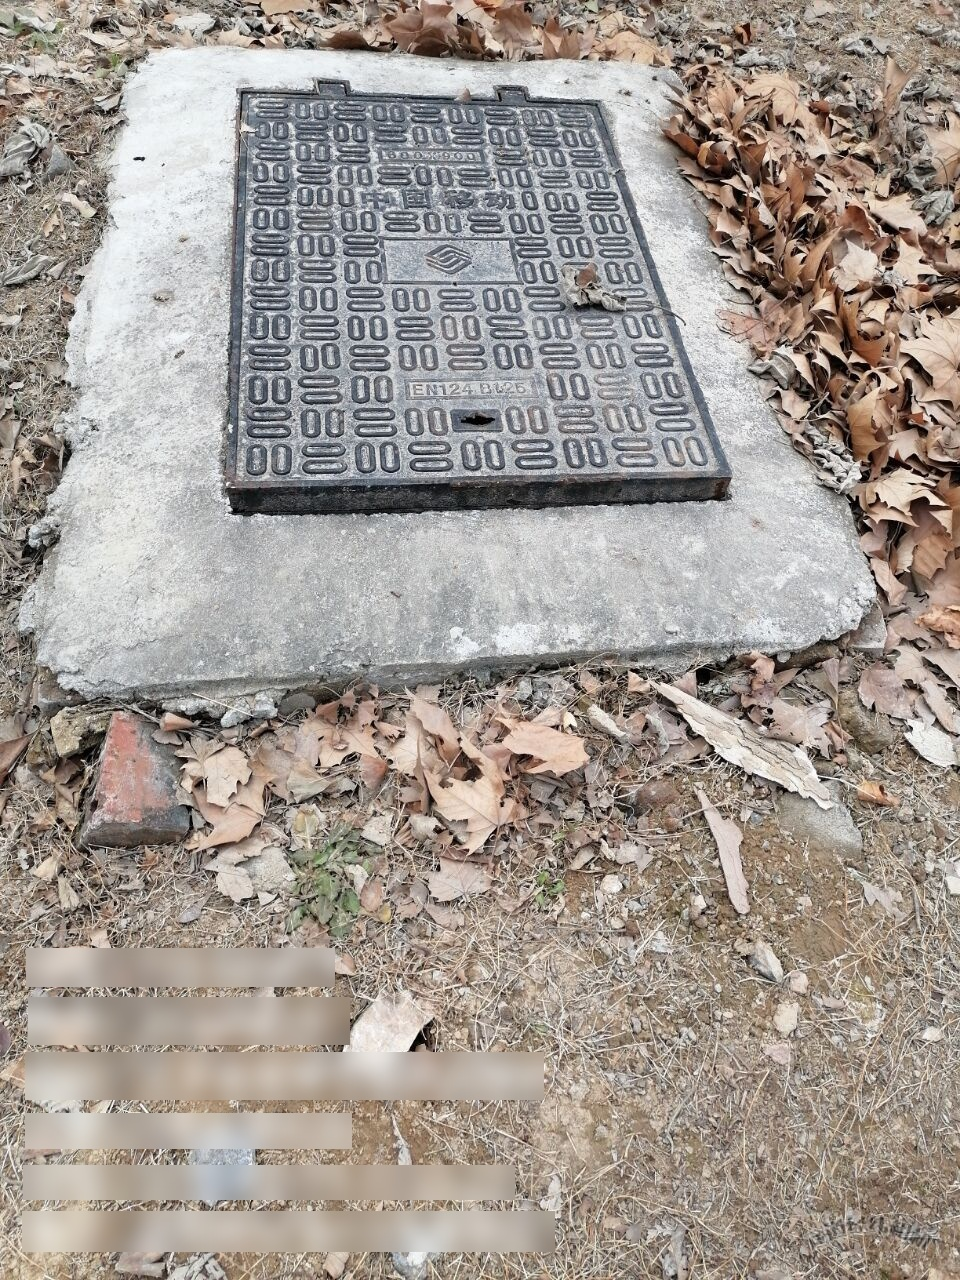uncovered: (218, 78, 737, 521)
